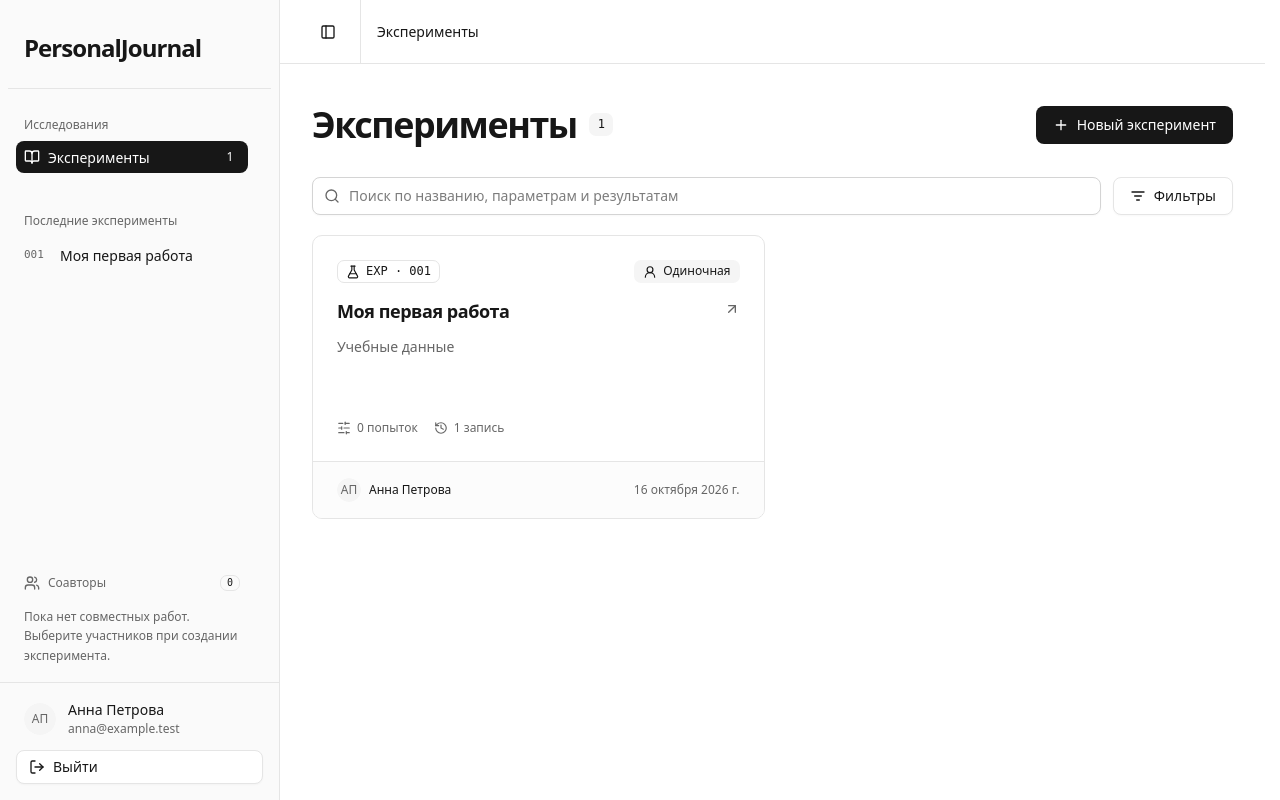
Test: Authentication boundary › uses the creator's stable number in the card and detail and the experiment title in the breadcrumb
Expected: the text "EXP · 001" is shown, [337, 260, 440, 283]
Click the link "Моя первая работа" at (538, 377), box [312, 235, 764, 519]
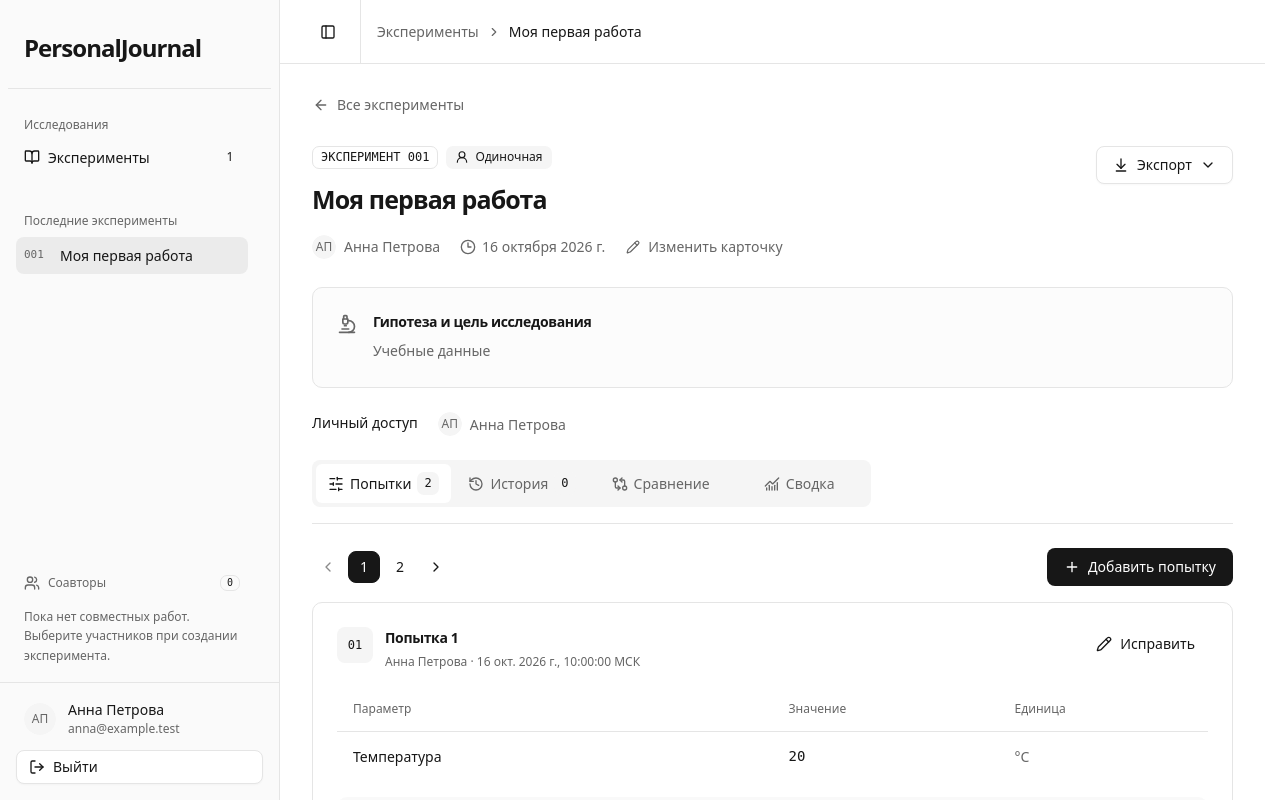
Expected: the heading "Моя первая работа" is shown, [312, 182, 547, 216]
Expected: the link "Моя первая работа" is shown, [509, 21, 642, 42]
Expected: the text "ЭКСПЕРИМЕНТ 001" is shown, [312, 146, 438, 169]
